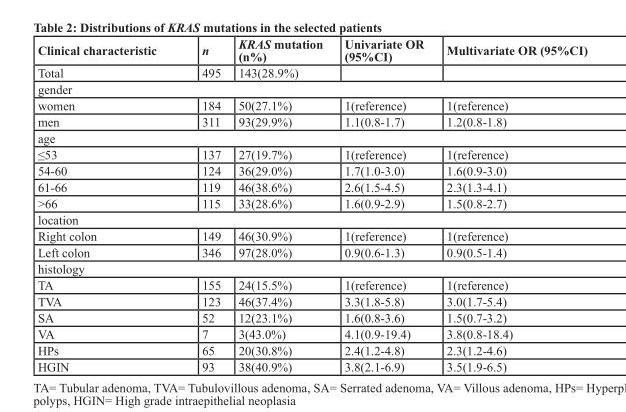table: (36, 36, 586, 373)
table column: (434, 36, 586, 373), (36, 36, 178, 373), (228, 36, 332, 373), (332, 36, 434, 373), (178, 36, 228, 373)
table column header: (36, 36, 586, 64)
table projected row header: (36, 80, 586, 96), (36, 129, 586, 145), (36, 211, 586, 227), (36, 260, 586, 276)
table row: (36, 36, 586, 64), (36, 96, 586, 113), (36, 145, 586, 162), (36, 194, 586, 211), (36, 243, 586, 260), (36, 292, 586, 309), (36, 341, 586, 358), (36, 64, 586, 80), (36, 80, 586, 96), (36, 113, 586, 129), (36, 129, 586, 145), (36, 162, 586, 178), (36, 178, 586, 194), (36, 211, 586, 227), (36, 227, 586, 243), (36, 260, 586, 276), (36, 276, 586, 292), (36, 309, 586, 325), (36, 325, 586, 341), (36, 358, 586, 373)
